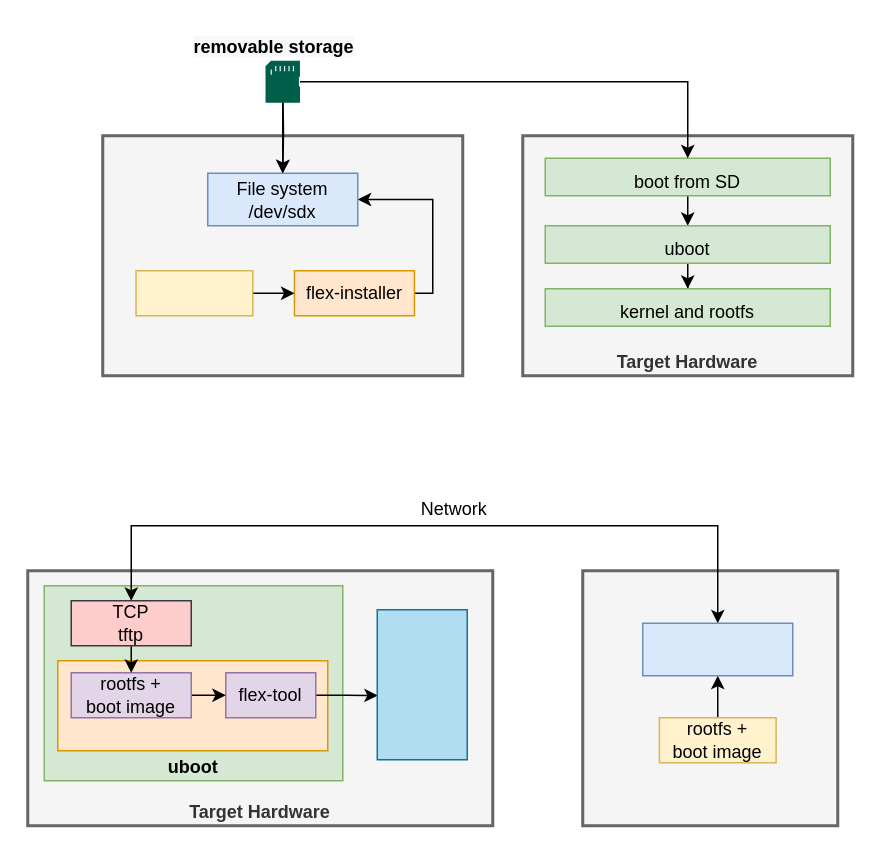
Image size: 879x852. Some labels were removed from this diagram. Here are the shapes that lost their labels. From the top down, the box of each, then its label:
(100, 134, 464, 376): HOST Linux
(135, 269, 253, 316): rootfs boot image
(641, 622, 793, 676): File system ~/tftp
(376, 608, 467, 760): Board memroy or storage
(580, 568, 838, 826): HOST Linux as TCP server
(56, 659, 328, 751): TinyDistro RamFs
